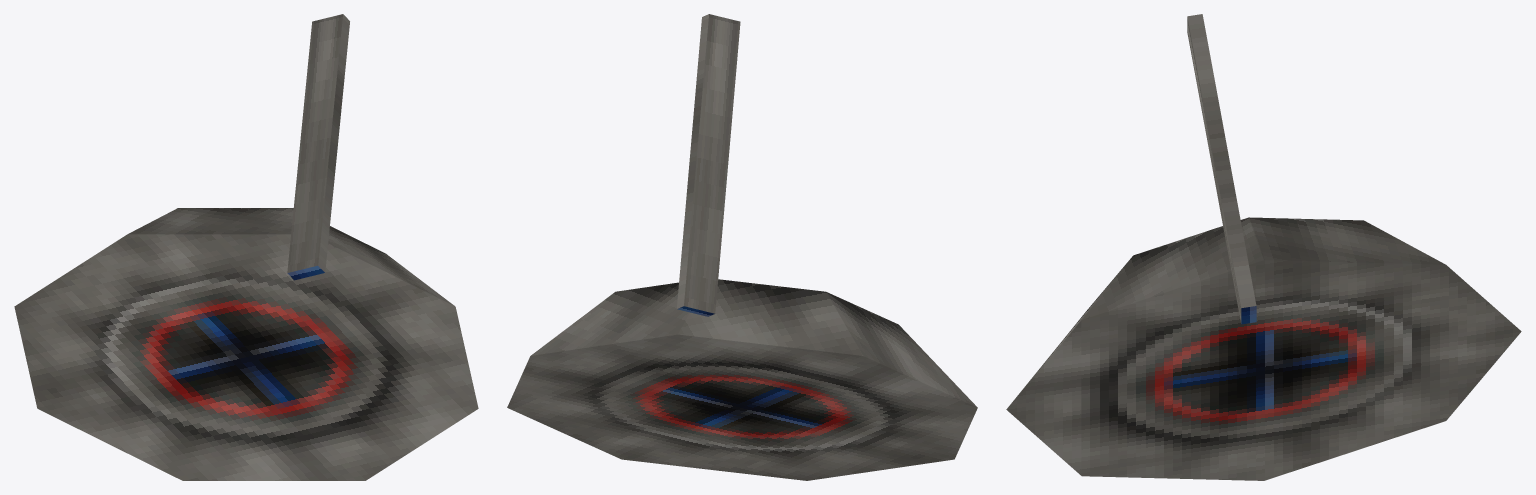
File: RocketPad.glb
3 views of the same model, side by side, from view 1: azimuth 30°, elevation 25°; view 2: azimuth 150°, elevation 25°; view 3: azimuth 270°, elevation 25° (orthographic). The views are drawn at different scales.
Visible parts, largest first — view 1: RocketPad; view 2: RocketPad; view 3: RocketPad.
Part boxes in pixels (x1,y1,x2,y2): RocketPad: (14,14,478,480); RocketPad: (507,14,977,480); RocketPad: (1006,14,1521,480).
Size of the model in its own units: 225 by 197 by 222.
1 material, 1 textured.
